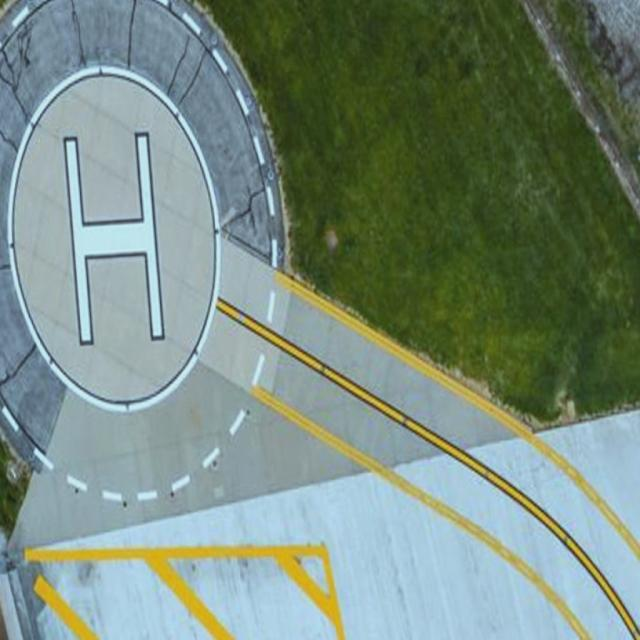helipad: (4, 60, 224, 414)
